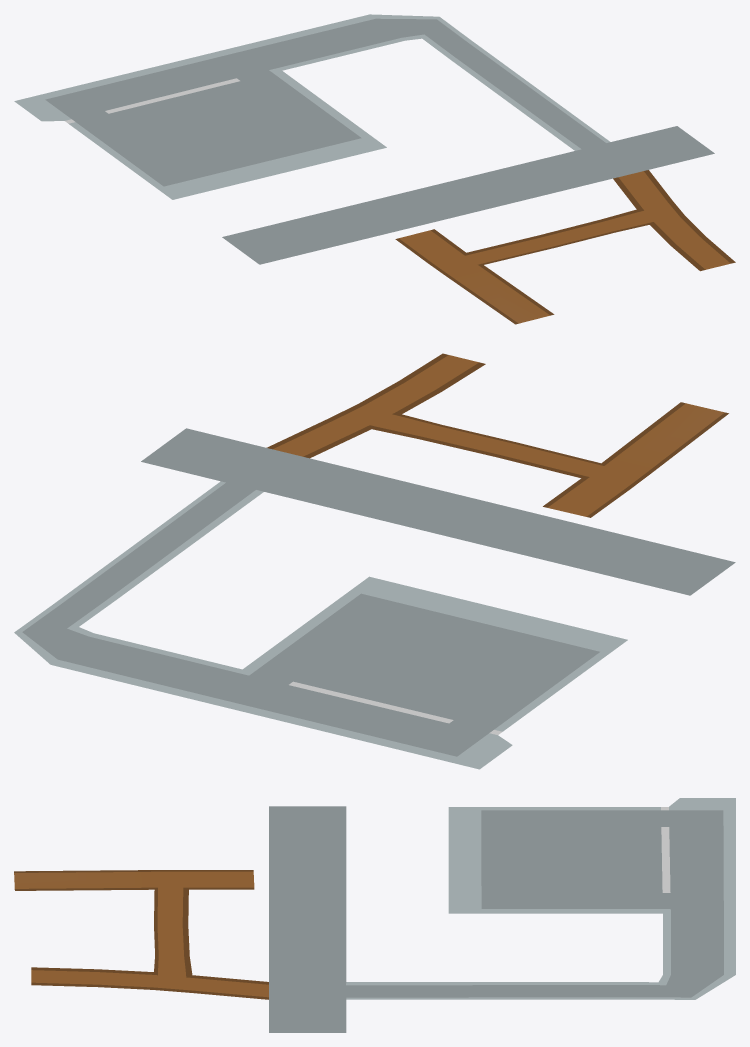
The model's file is Road.fbx.
3 views of the same model, one above another, from view 1: azimuth 30°, elevation 25°; view 2: azimuth 150°, elevation 25°; view 3: azimuth 270°, elevation 25° (orthographic). The views are drawn at different scales.
Parts seen in each view (by area): view 1: Road; view 2: Road; view 3: Road.
Boxes of the visible parts, x1,y1,x2,y2 form: Road: (14,14,735,324); Road: (14,353,735,769); Road: (14,798,735,1032).
Bounding box in the file's own units: 11062 × 0 × 14372.
